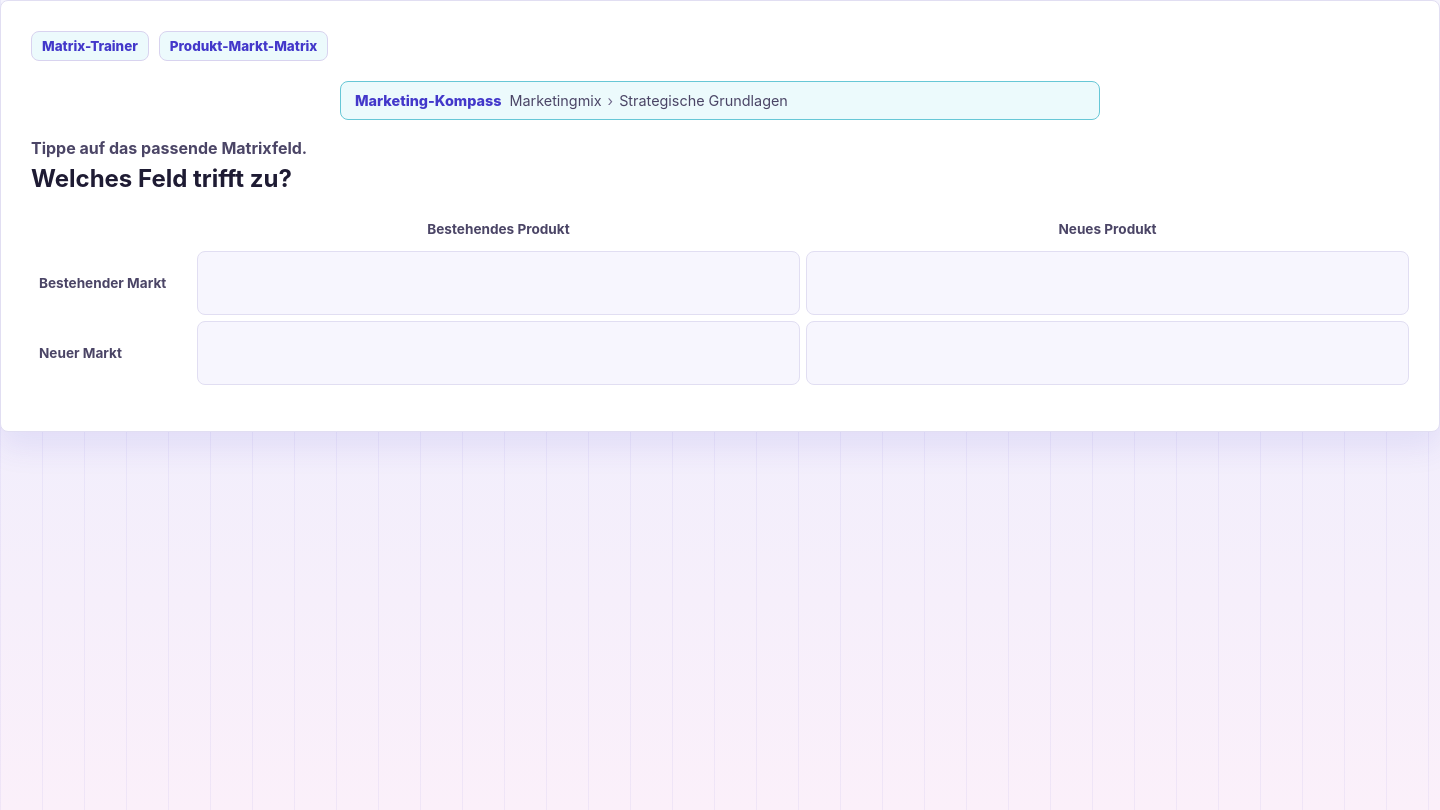
Scenario: MatrixTrainer (Test 11, 12, 15) › markiert die richtige Zelle als korrekt und löst completed(true) aus (Test 11)
The image size is (1440, 810).
Click the 2nd button: (1108, 283) [806,251,1409,315]
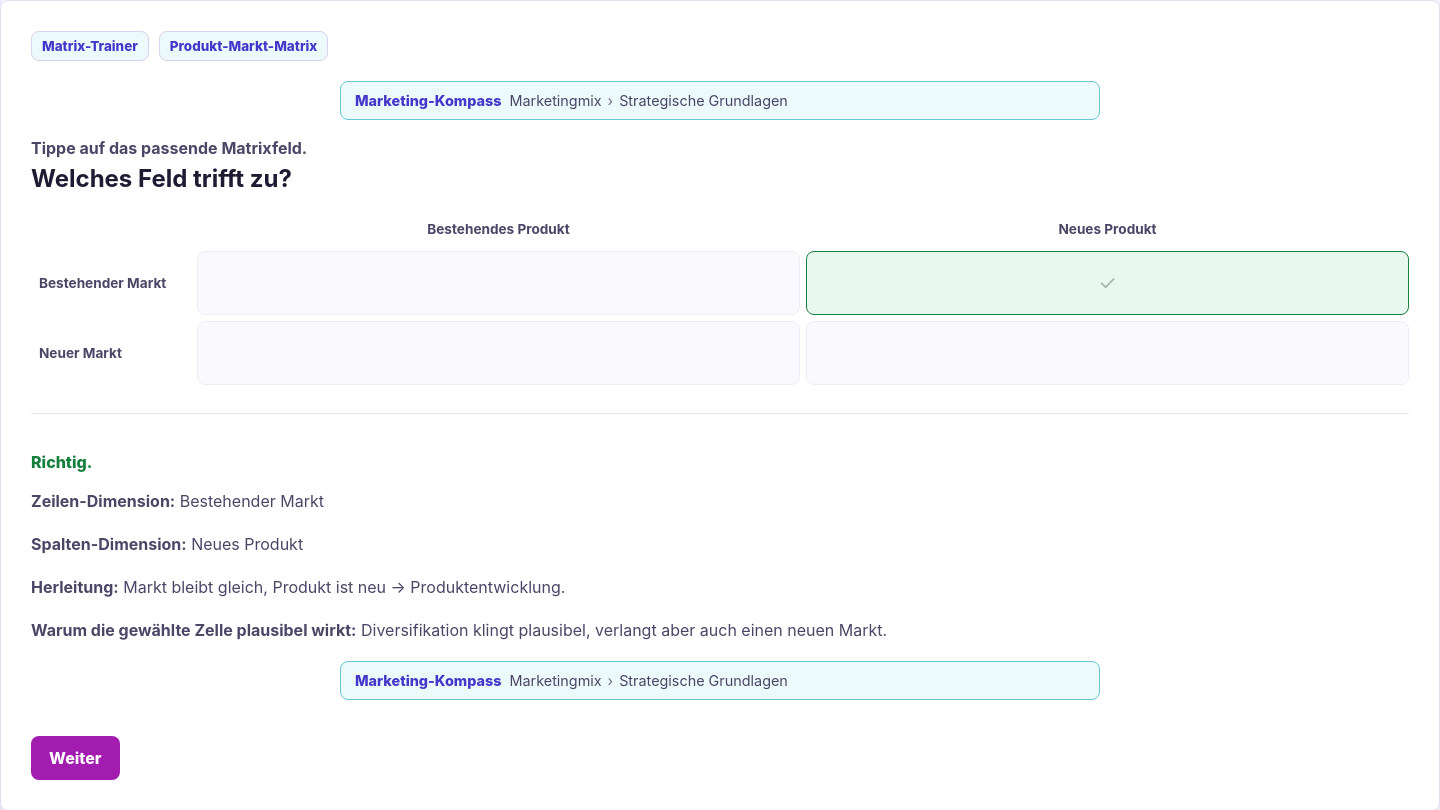
Check: the text "Richtig." is shown, box [31,452,92,472]
